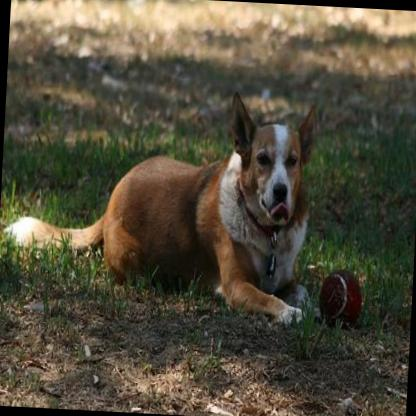kelpie: (0, 77, 320, 335)
